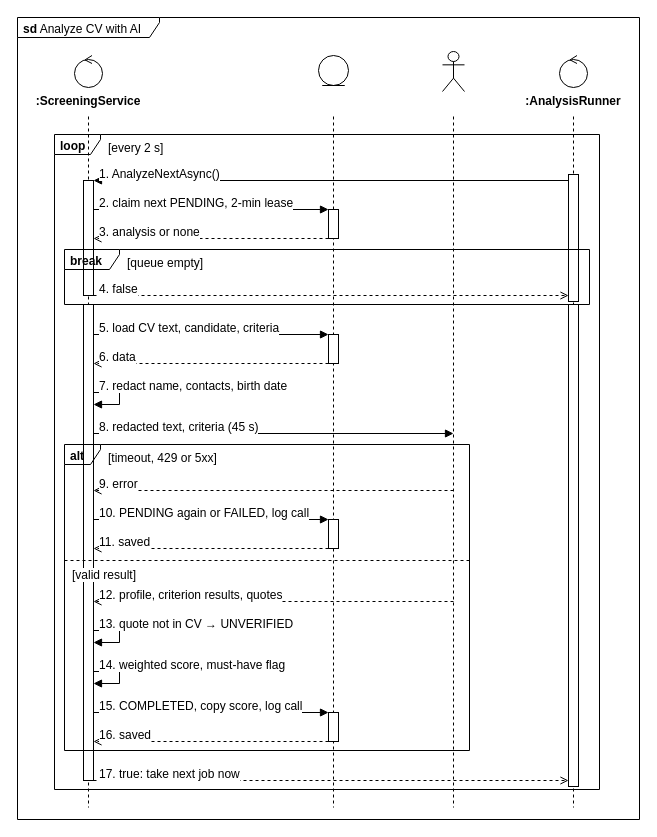
Some shapes in this 657 by 837 pixel diagram are drawn without their labels. The shapes that lost their labels are listed below. From the top down, each one's centre as x and y in pixels, then its label:
At point 333,70: ":Database".
At point 453,71: "AI Service".
